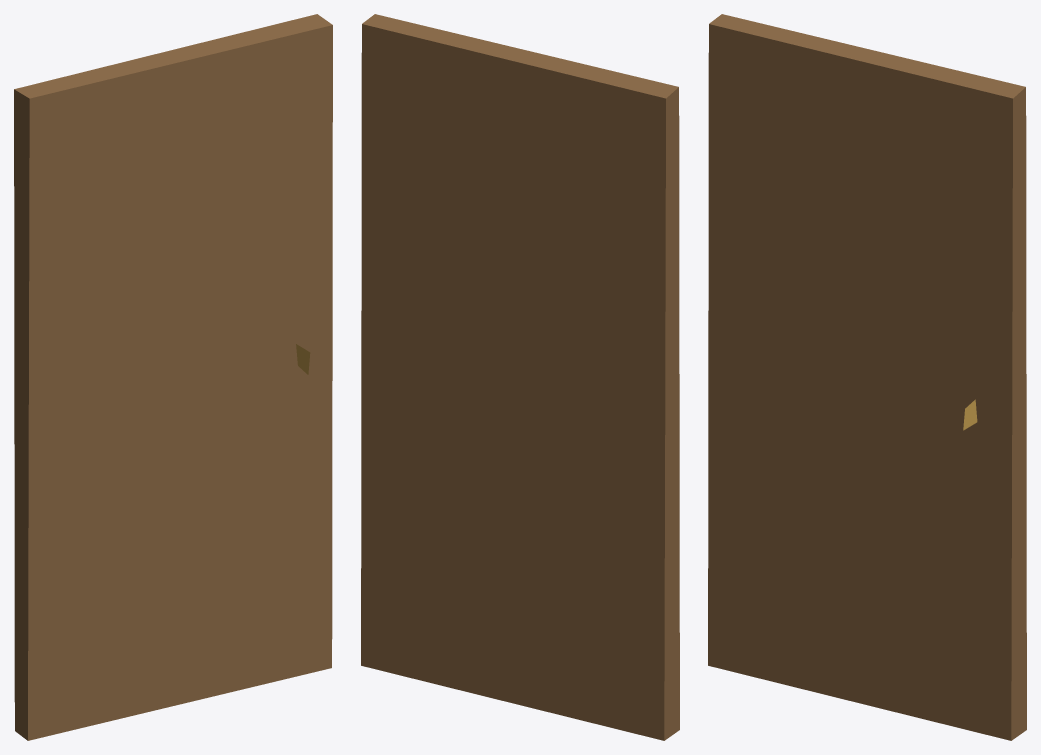
The model's file is harbor-door.lod2.glb.
3 renders of one model, left to right at view 1: azimuth 30°, elevation 25°; view 2: azimuth 150°, elevation 25°; view 3: azimuth 330°, elevation 25°, orthographic.
Parts seen in each view (by area): view 1: harbor-door__door; view 2: harbor-door__door; view 3: harbor-door__door.
Part boxes in pixels (x1=…): harbor-door__door: x1=14, y1=14, x2=332, y2=740; harbor-door__door: x1=361, y1=14, x2=679, y2=740; harbor-door__door: x1=708, y1=14, x2=1026, y2=740.
Bounding box in the file's own units: 1.18 × 2.38 × 0.1811.
